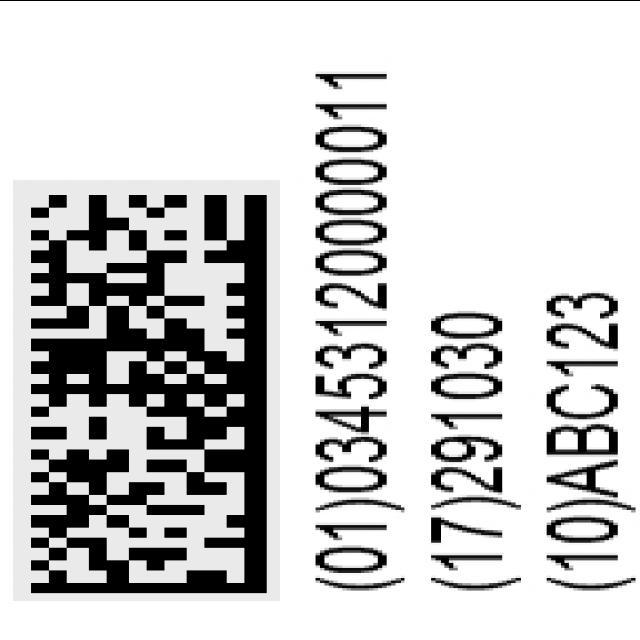Data-Matrix: (13, 179, 280, 600)
